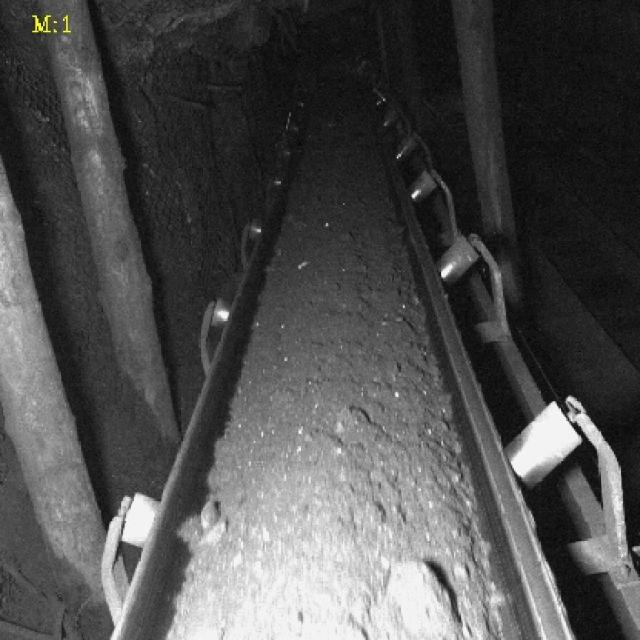large_sized_coal: (369, 561, 456, 640), (177, 501, 228, 554)
